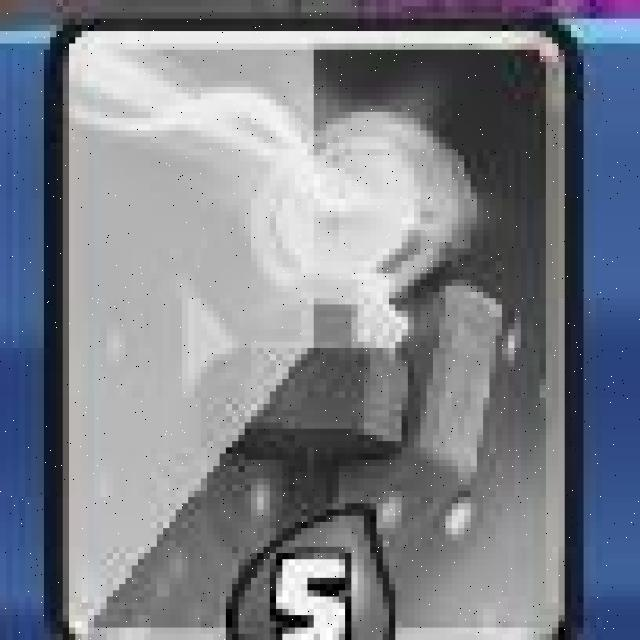Inferno_Tower: (42, 24, 571, 640)
